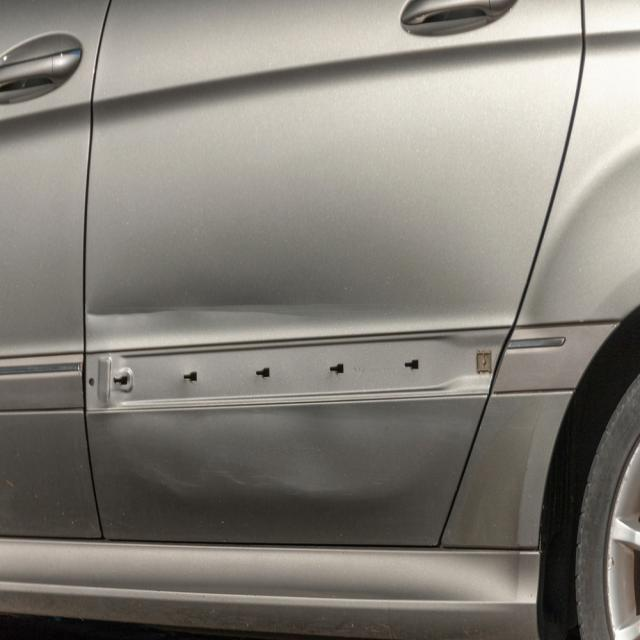dent: (86, 229, 463, 508)
